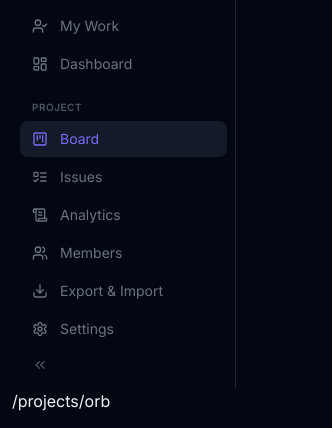
Test: Sidebar › navigates on click, using the project segment for project items
Click the button "Issues".
click(124, 177)  # box left=20, top=159, right=227, bottom=195
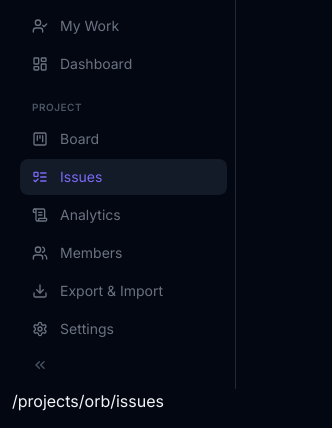
expect the text with test id "location-probe" reads "/projects/orb/issues": met, box left=12, top=391, right=164, bottom=411
Click the button "Members".
click(124, 253)  # box left=20, top=235, right=227, bottom=271
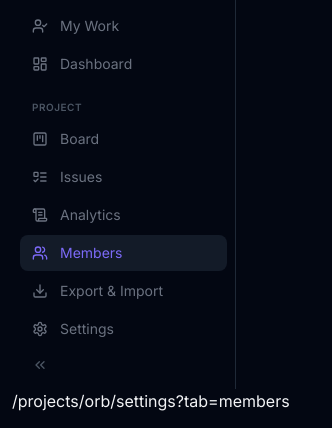
expect the text with test id "location-probe" reads "/projects/orb/settings?tab=members": met, box left=12, top=391, right=290, bottom=411
Click the button "Dashboard".
click(124, 64)  # box left=20, top=46, right=227, bottom=82
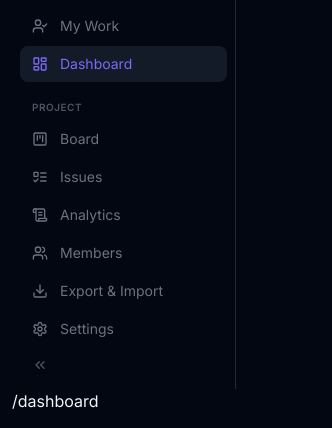
expect the text with test id "location-probe" reads "/dashboard": met, box left=12, top=391, right=98, bottom=411
